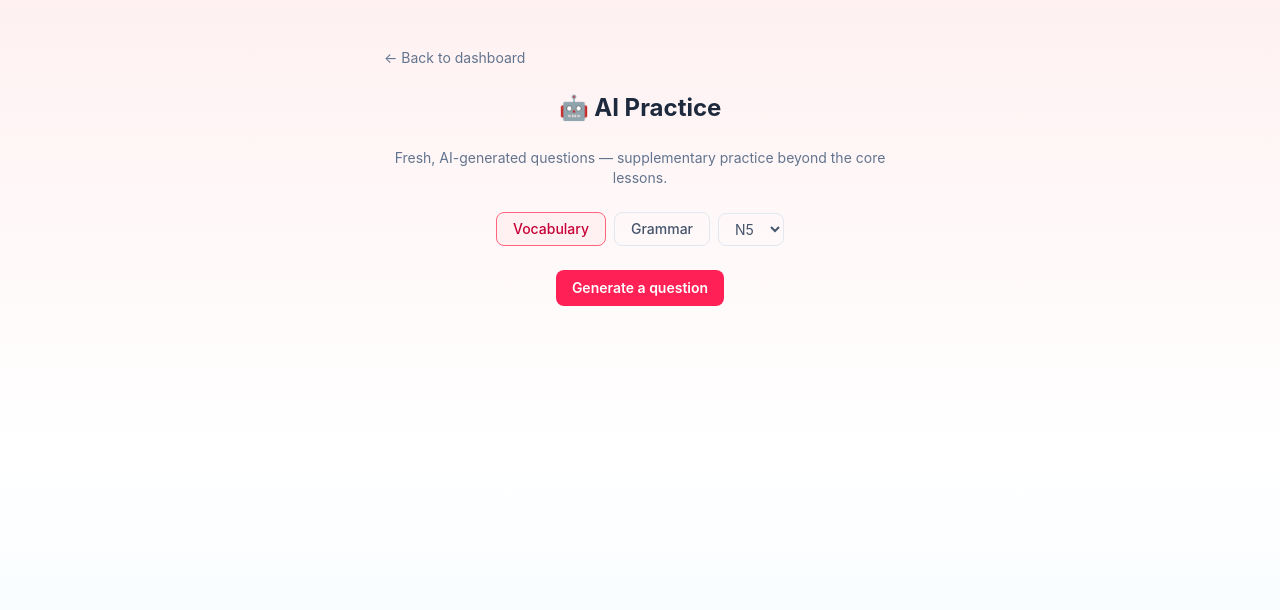
it: AIPracticePage › shows an error message when generation fails
The image size is (1280, 610).
Click the button "Generate a question": (640, 288) x1=556 y1=270 x2=724 y2=306
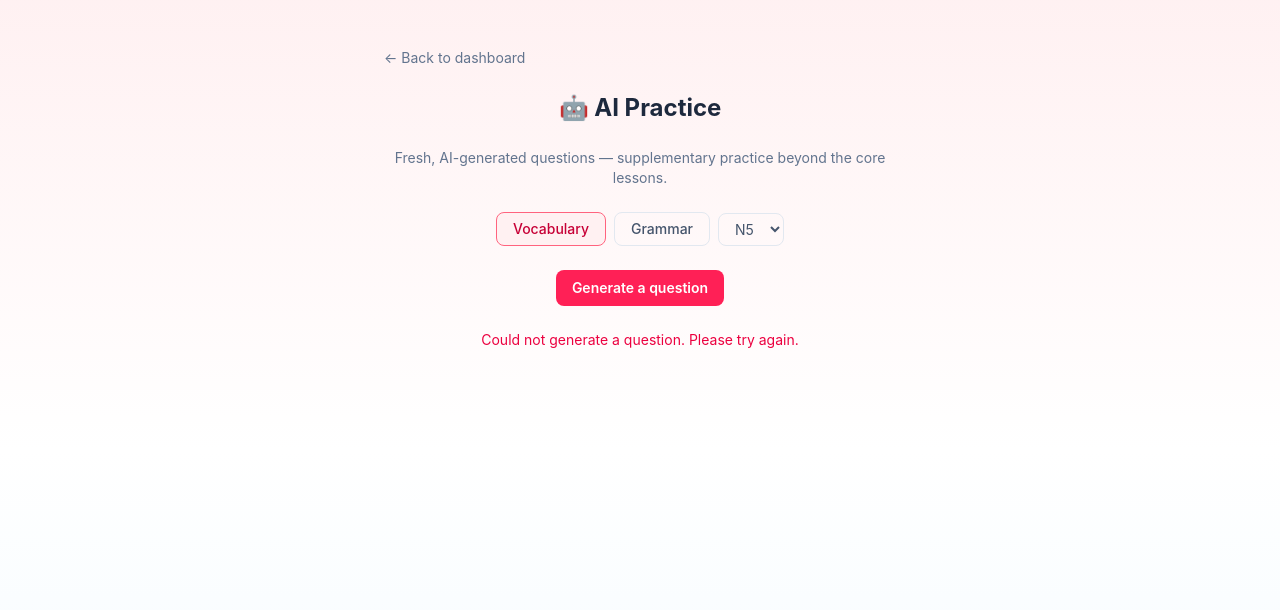
Expected: the text "Could not generate a question. Please try again." is shown, x1=481 y1=330 x2=799 y2=350
